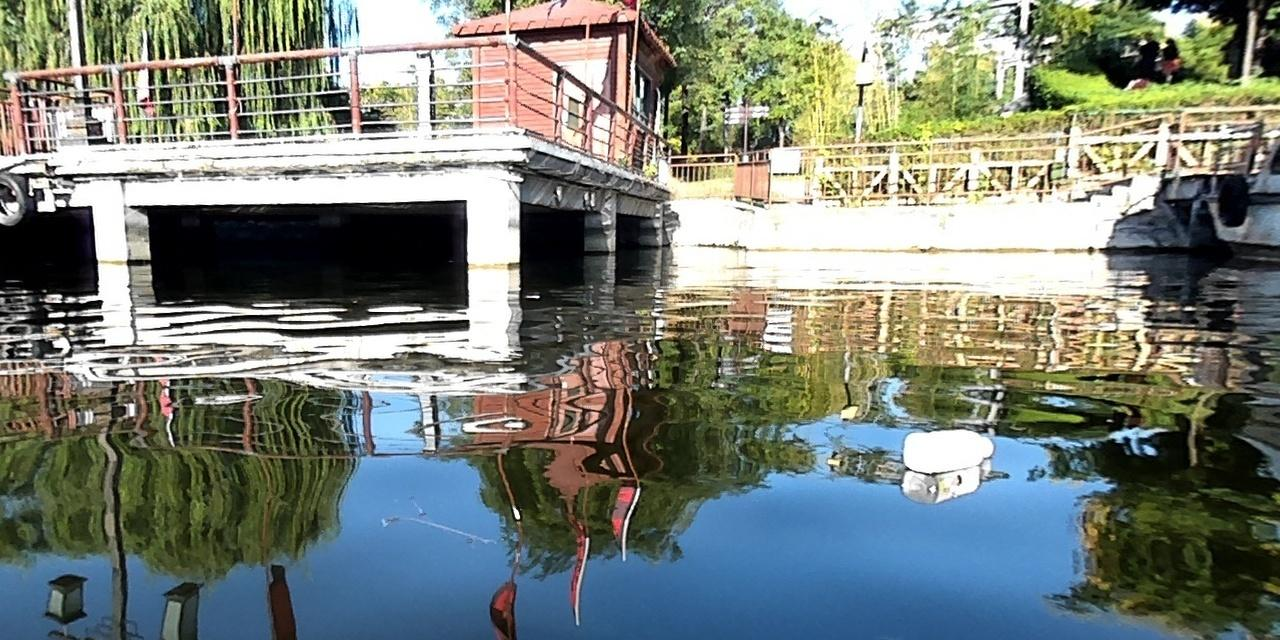bottle: (899, 423, 998, 476)
